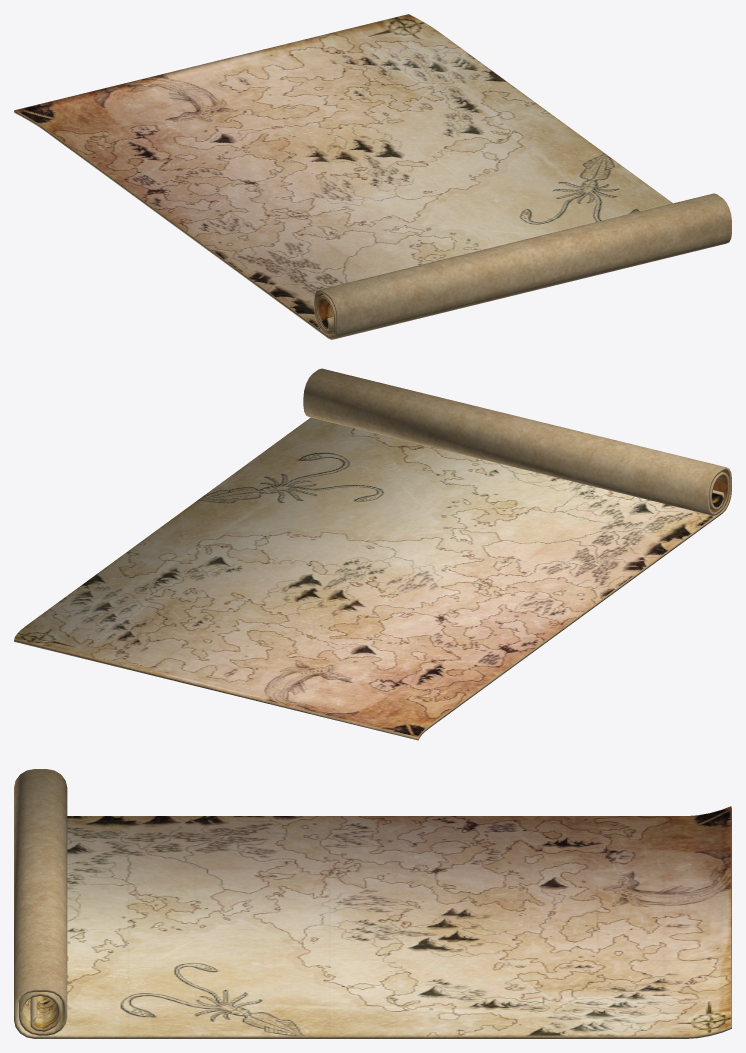
The model's file is MapUnity.fbx.
3 views of the same model, one above another, from view 1: azimuth 30°, elevation 25°; view 2: azimuth 150°, elevation 25°; view 3: azimuth 270°, elevation 25° (orthographic). The views are drawn at different scales.
Visible parts, largest first — view 1: Плоскость.002; view 2: Плоскость.002; view 3: Плоскость.002.
Part boxes in pixels (bbox=[...]): Плоскость.002: bbox=[14, 14, 731, 339]; Плоскость.002: bbox=[14, 368, 731, 740]; Плоскость.002: bbox=[14, 769, 731, 1038].
Size of the model in its own units: 154 by 15.99 by 207.
